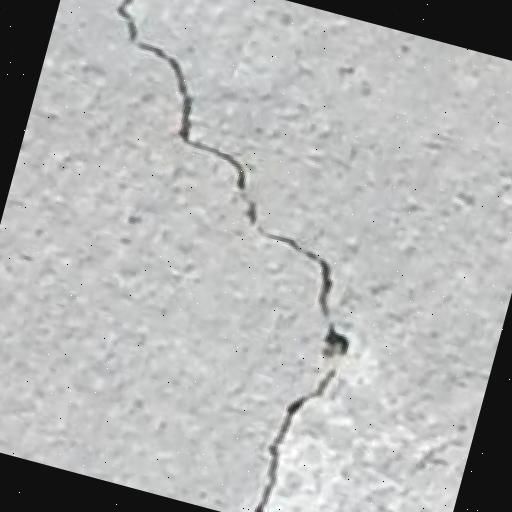spalling: (100, 0, 367, 508)
